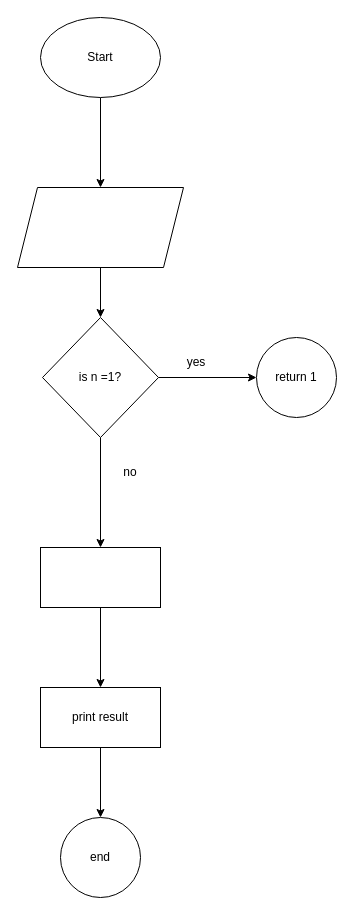
Some shapes in this 354 by 915 pixel diagram are drawn without their labels. Each missing label, with the centre of its shape:
"Ask user for triangular number" belongs at point (100, 227).
"retrun n + (triangular n-1)" belongs at point (100, 577).
